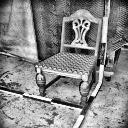chair_success: (17, 2, 108, 112)
